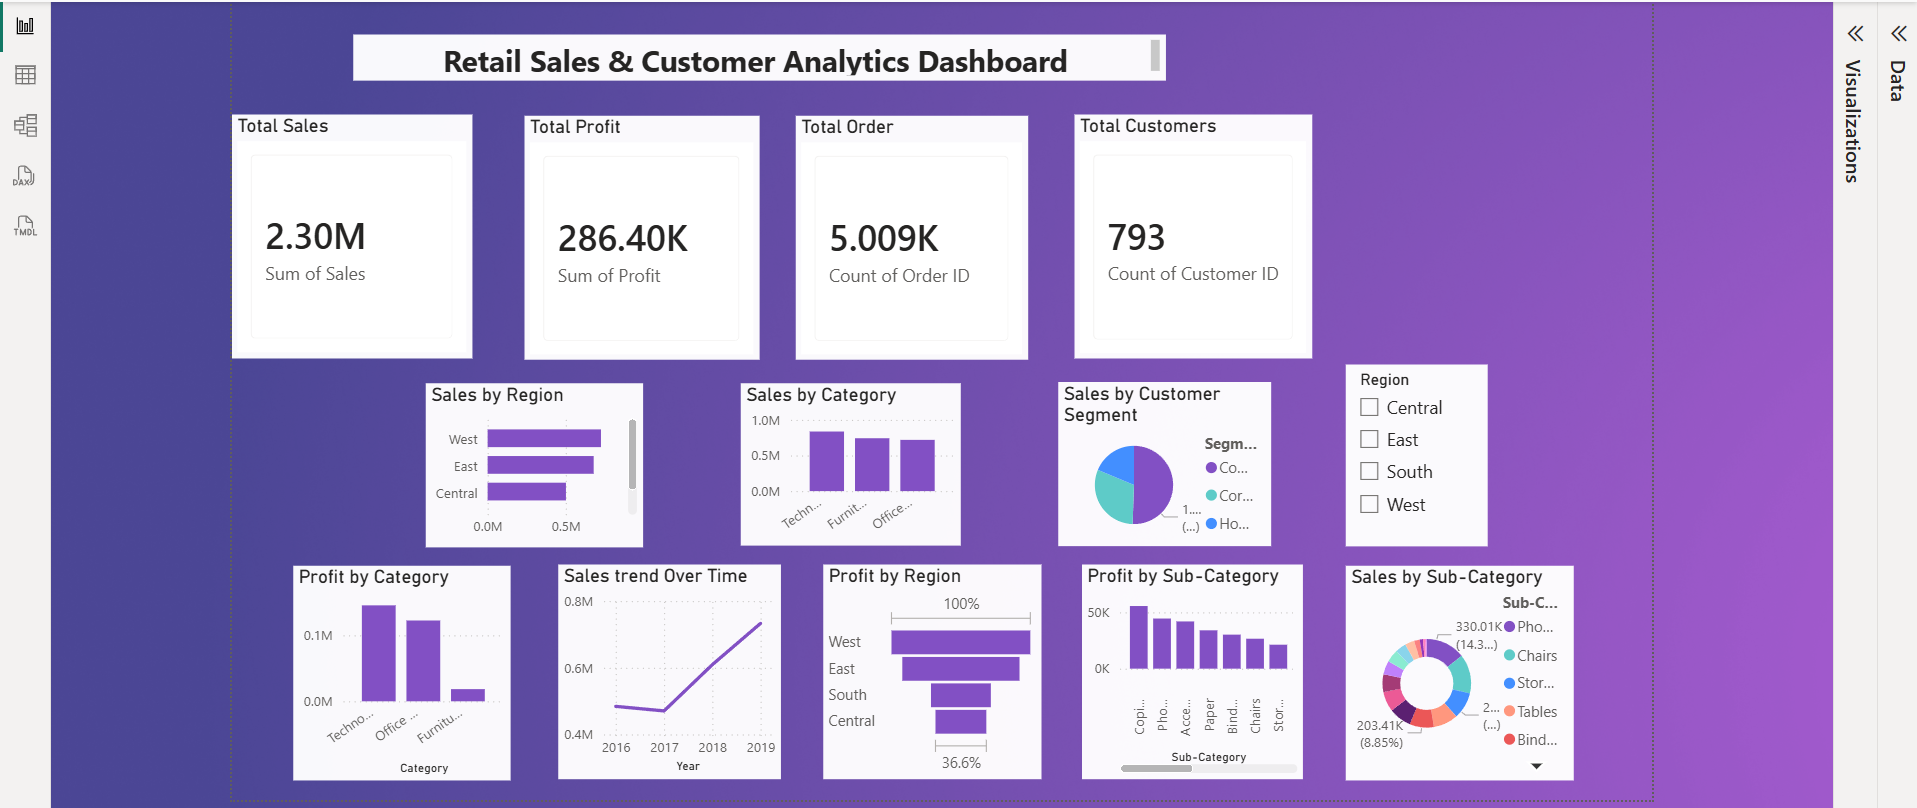

The dashboard page shown, as its layout file describes it:
{"tool":"powerbi","page":{"name":"Page 1","canvas":[1280,720],"ordinal":0},"visuals":[{"type":"cardVisual","title":"Total Sales","fields":{"Data":["Sum(Orders.Sales)"]},"box":[0,101.5,216.4,220.1],"z":0},{"type":"cardVisual","title":"Total Profit","fields":{"Data":["Sum(Orders.Profit)"]},"box":[263.4,102.2,211.7,220.3],"z":1000},{"type":"cardVisual","title":"Total Order","fields":{"Data":["Count(Orders.Order ID)"]},"box":[508.3,102.2,209.2,220.3],"z":2000},{"type":"cardVisual","title":"Total Customers","fields":{"Data":["Count(Orders.Customer ID)"]},"box":[759.4,100.9,214.2,220.3],"z":3000},{"type":"clusteredBarChart","title":"Sales by Region","fields":{"Category":["Orders.Region"],"Y":["Sum(Orders.Sales)"]},"box":[174.8,343.4,195.7,147.7],"z":4000},{"type":"clusteredColumnChart","title":"Profit by Category","fields":{"Category":["Orders.Category"],"Y":["Sum(Orders.Profit)"]},"box":[55.4,508.3,195.7,193.2],"z":5000},{"type":"clusteredColumnChart","title":"Sales by Category","fields":{"Category":["Orders.Category"],"Y":["Sum(Orders.Sales)"]},"box":[459.1,343.4,198.2,146.5],"z":6000},{"type":"lineChart","title":"Sales trend Over Time","fields":{"Category":["Orders.Order Date.Variation.Date Hierarchy.Year","Orders.Order Date.Variation.Date Hierarchy.Quarter","Orders.Order Date.Variation.Date Hierarchy.Month","Orders.Order Date.Variation.Date Hierarchy.Day"],"Y":["Sum(Orders.Sales)"]},"box":[294.2,507.1,200.6,193.2],"z":7000},{"type":"pieChart","title":" Sales by Customer Segment","fields":{"Category":["Orders.Segment"],"Y":["Sum(Orders.Sales)"]},"box":[744.6,342.2,192,147.7],"z":8000},{"type":"funnel","title":"Profit by Region","fields":{"Category":["Orders.Region"],"Y":["Sum(Orders.Profit)"]},"box":[532.9,507.1,196.9,193.2],"z":9000},{"type":"donutChart","title":" Sales by Sub-Category","fields":{"Category":["Orders.Sub-Category"],"Y":["Sum(Orders.Sales)"]},"box":[1004.3,508.3,205.5,193.2],"z":10000},{"type":"clusteredColumnChart","title":" Profit by Sub-Category","fields":{"Category":["Orders.Sub-Category"],"Y":["Sum(Orders.Profit)"]},"box":[766.8,507.1,199.4,193.2],"z":11000},{"type":"slicer","fields":{"Values":["Orders.Region"]},"box":[1004.3,327.4,128,163.7],"z":12000},{"type":"textbox","box":[108.8,29.3,732.5,41.6],"z":13000}]}

Visuals, with their boxes in screenshot pixels (x1, y1, x2, y2):
"Total Sales" cardVisual: BBox(230, 107, 469, 351)
"Total Profit" cardVisual: BBox(521, 108, 756, 352)
"Total Order" cardVisual: BBox(793, 108, 1024, 352)
"Total Customers" cardVisual: BBox(1071, 107, 1308, 351)
"Sales by Region" clusteredBarChart: BBox(423, 375, 640, 539)
"Profit by Category" clusteredColumnChart: BBox(291, 558, 508, 772)
"Sales by Category" clusteredColumnChart: BBox(738, 375, 958, 538)
"Sales trend Over Time" lineChart: BBox(556, 557, 778, 771)
" Sales by Customer Segment" pieChart: BBox(1054, 374, 1267, 538)
"Profit by Region" funnel: BBox(820, 557, 1038, 771)
" Sales by Sub-Category" donutChart: BBox(1342, 558, 1570, 772)
" Profit by Sub-Category" clusteredColumnChart: BBox(1079, 557, 1300, 771)
slicer - Orders.Region: BBox(1342, 358, 1484, 539)
textbox: BBox(350, 27, 1162, 74)
